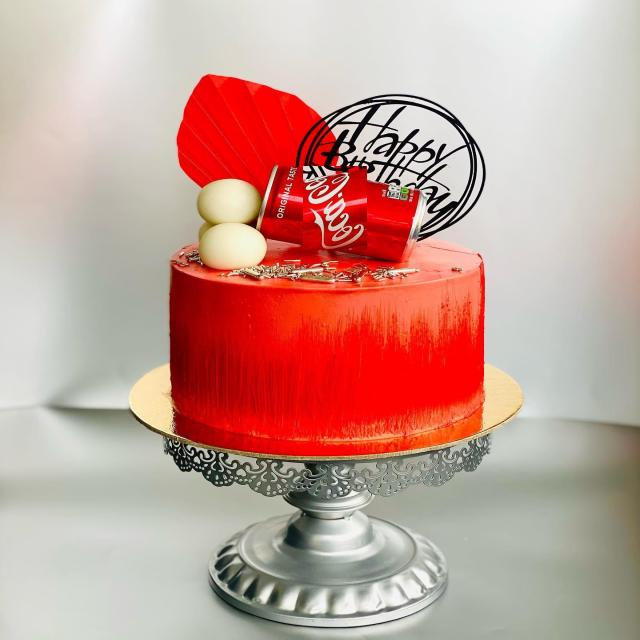coca-cola: (303, 166, 367, 250)
